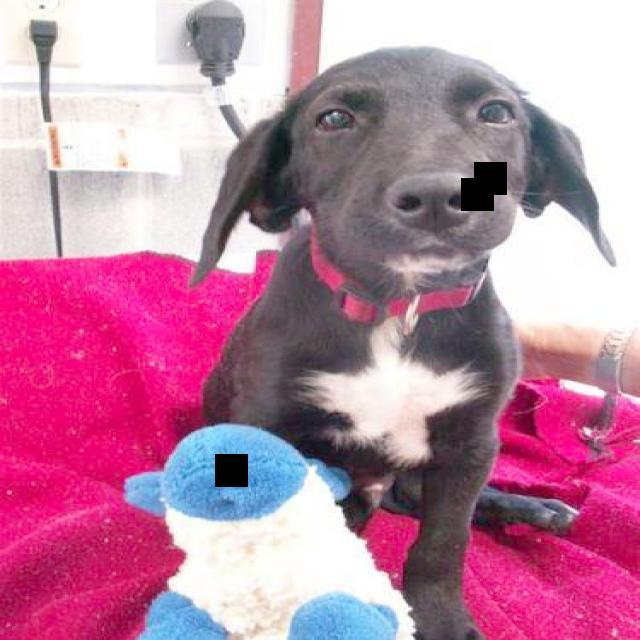puppy-dog: (190, 46, 614, 640)
